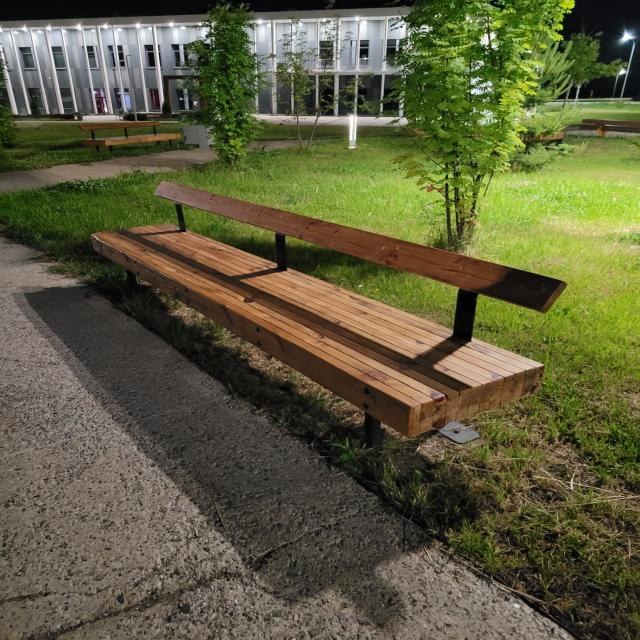Bench: (91, 180, 567, 448)
